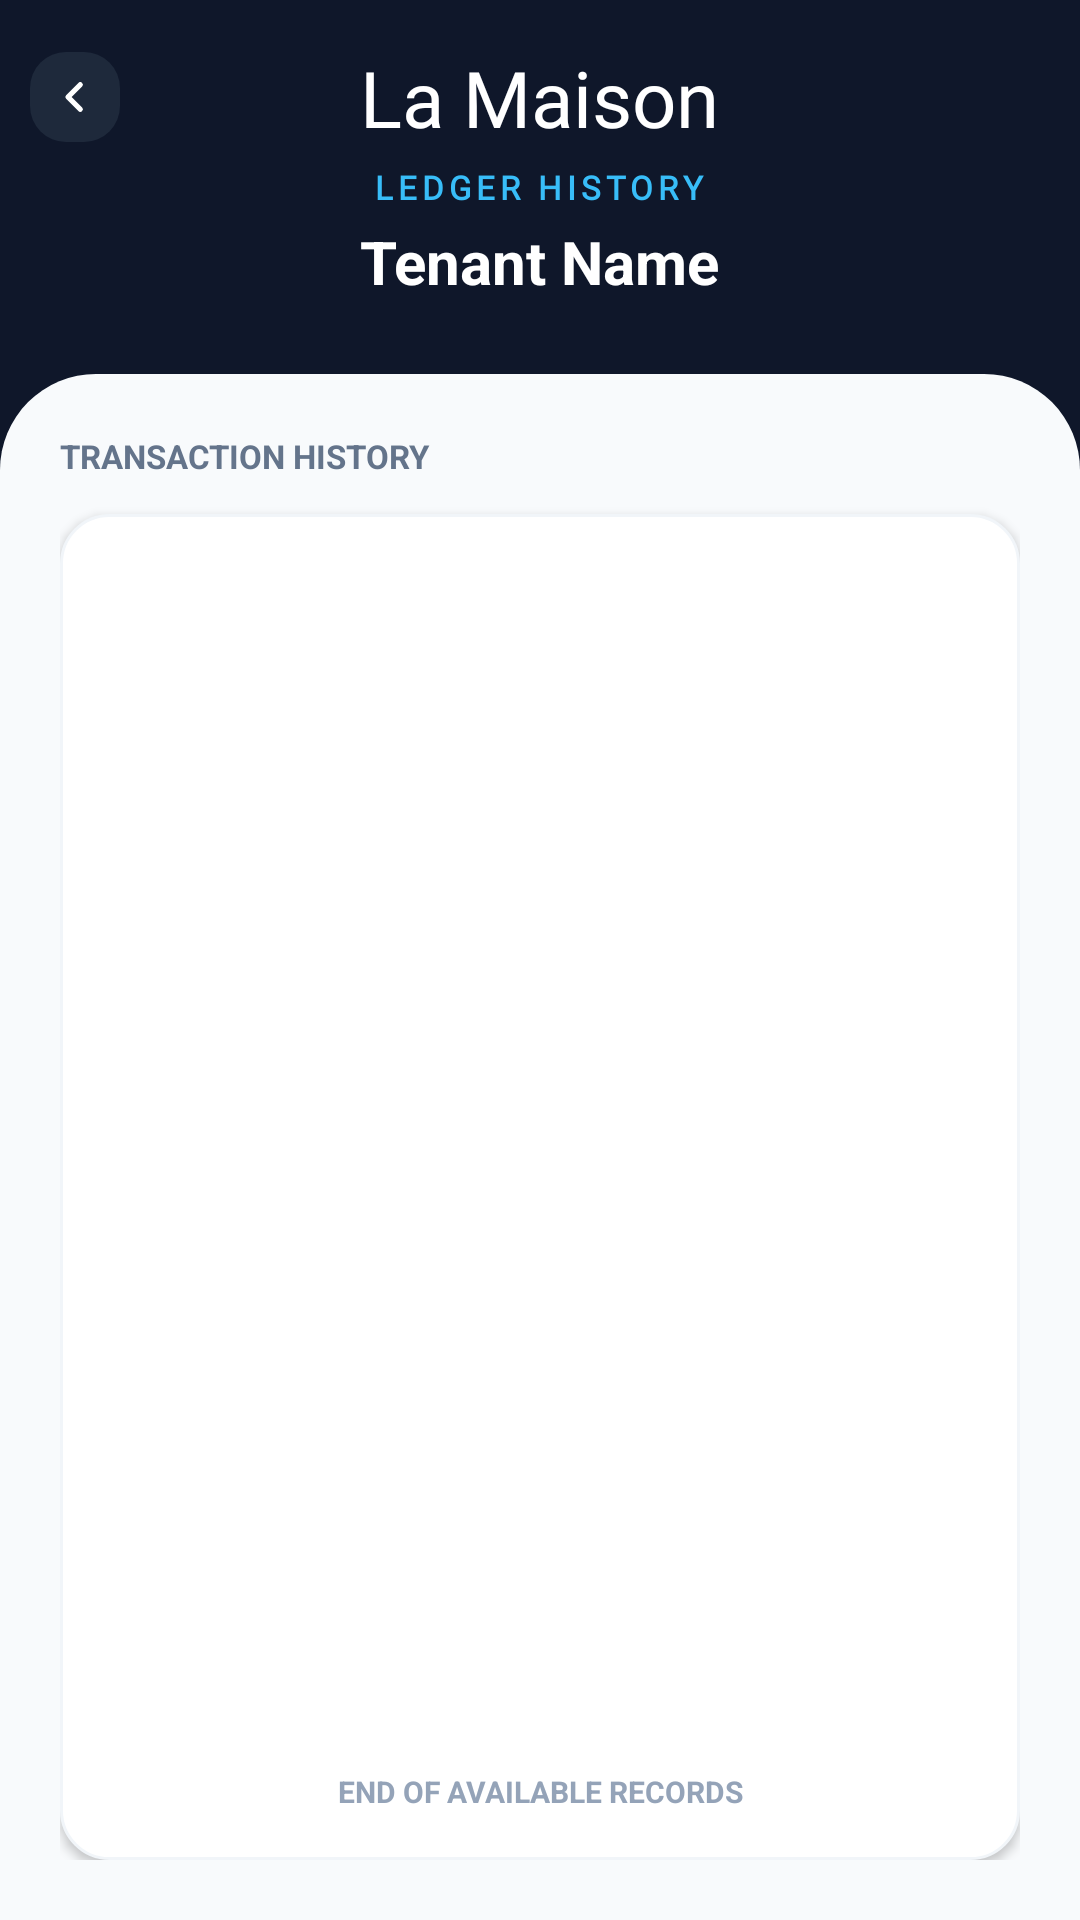

Named icons in this screenshot (1080px x 1920px) and their bounding boxes, (x1, y1, x2, y2):
chevron left: (30, 52, 120, 142)
